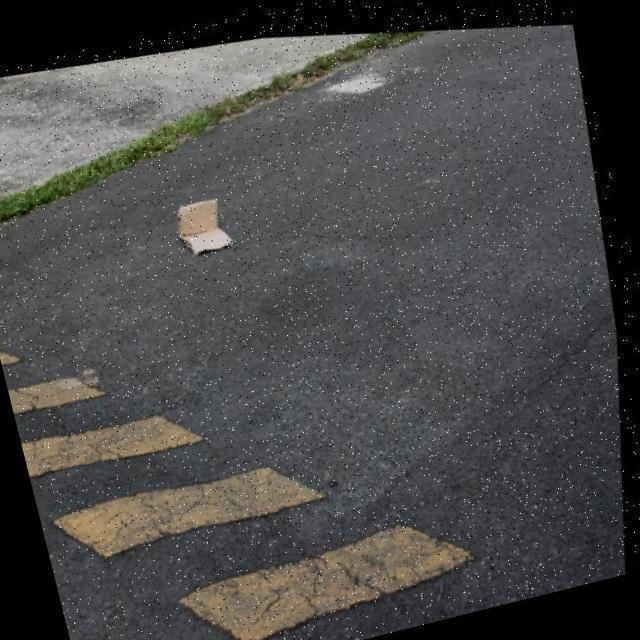Paper_Bag: (166, 180, 246, 262)
